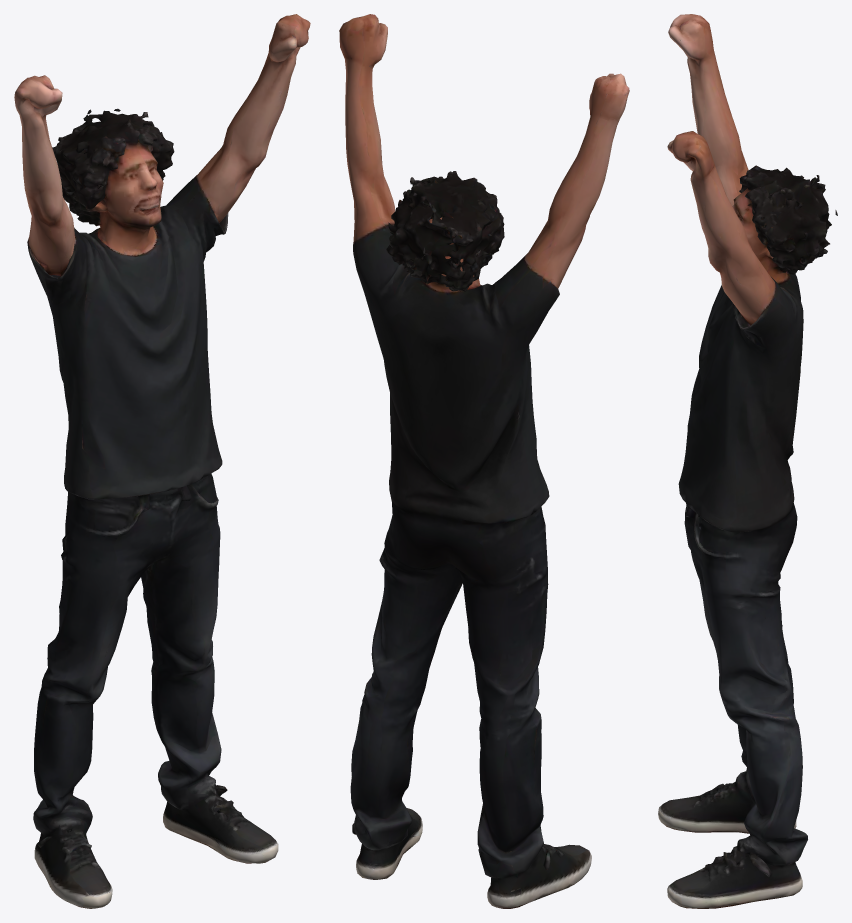
The model's file is fan-arms-up-s2.glb.
3 views of the same model, side by side, from view 1: azimuth 30°, elevation 25°; view 2: azimuth 150°, elevation 25°; view 3: azimuth 270°, elevation 25° (orthographic). The views are drawn at different scales.
Visible parts, largest first — view 1: geometry_0; view 2: geometry_0; view 3: geometry_0.
Boxes of the visible parts, x1,y1,x2,y2 form: geometry_0: (14,14,310,908); geometry_0: (339,14,629,908); geometry_0: (658,14,837,908).
Bounding box in the file's own units: 0.369 × 0.9995 × 0.2077.
Materials: 1 (1 with a texture image).
